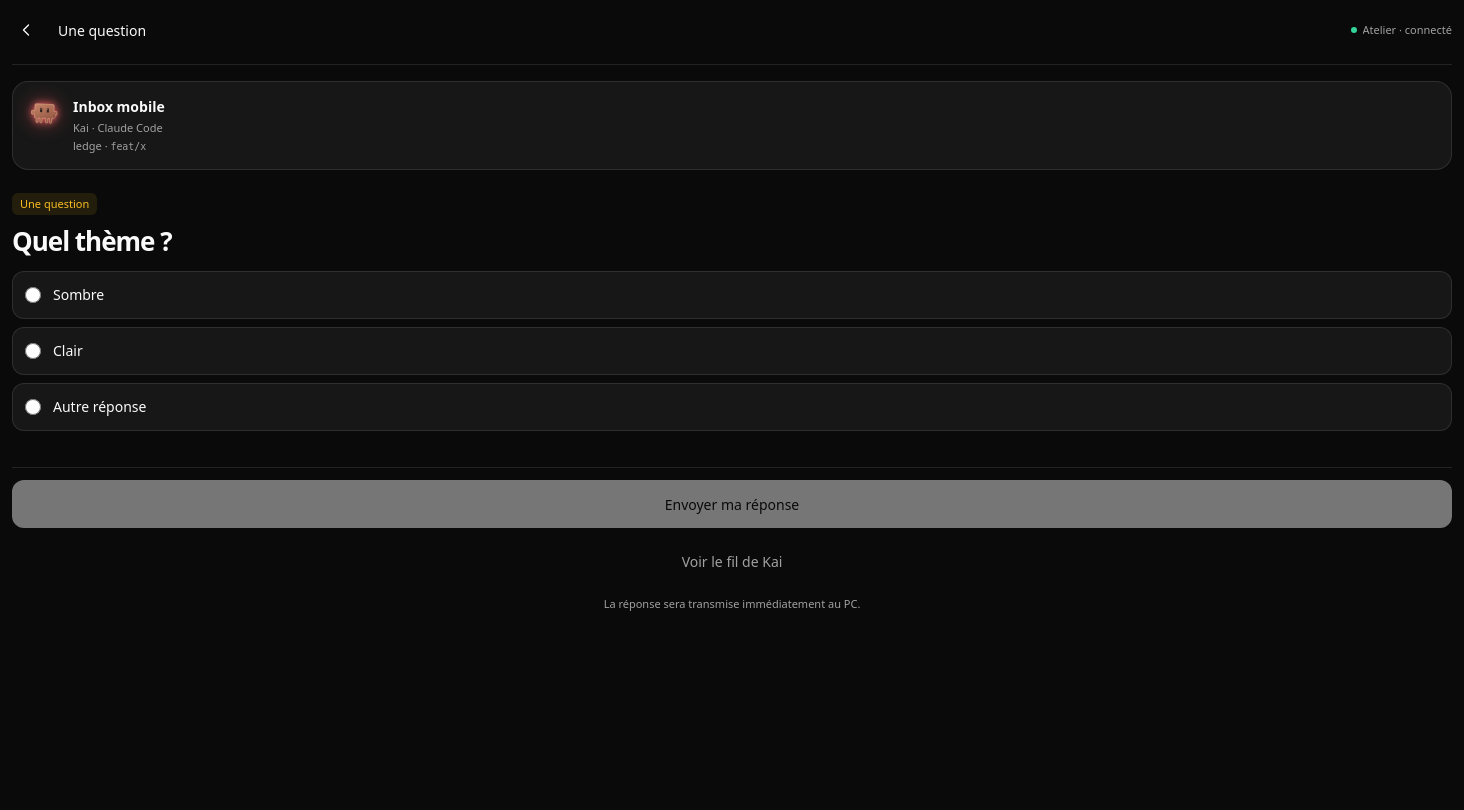
it: a question › says an answer was taken
Click the radio button labelled "Sombre" at [33, 295], box [25, 287, 41, 303]
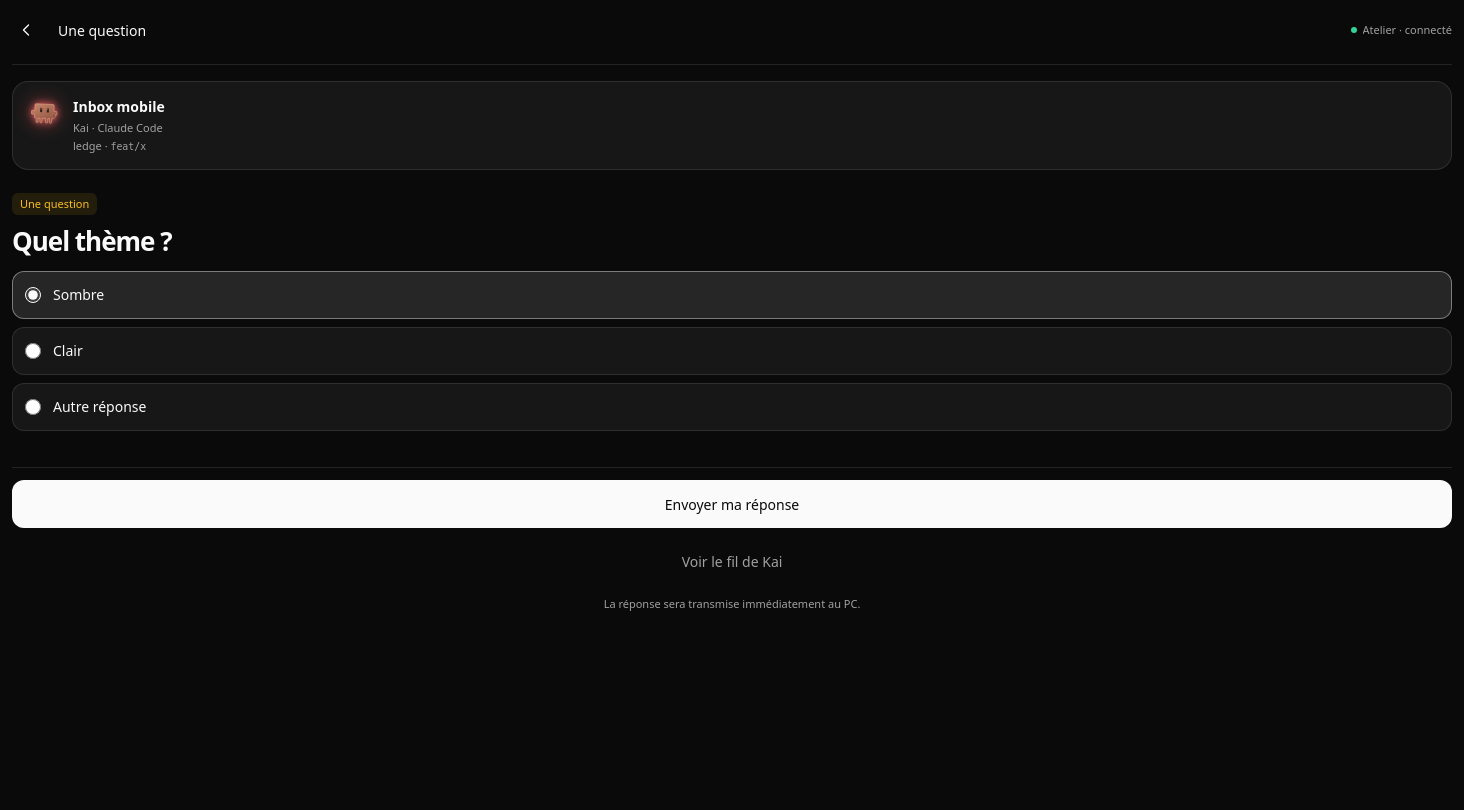
Click the button "Envoyer ma réponse" at [732, 504], box [12, 480, 1452, 528]
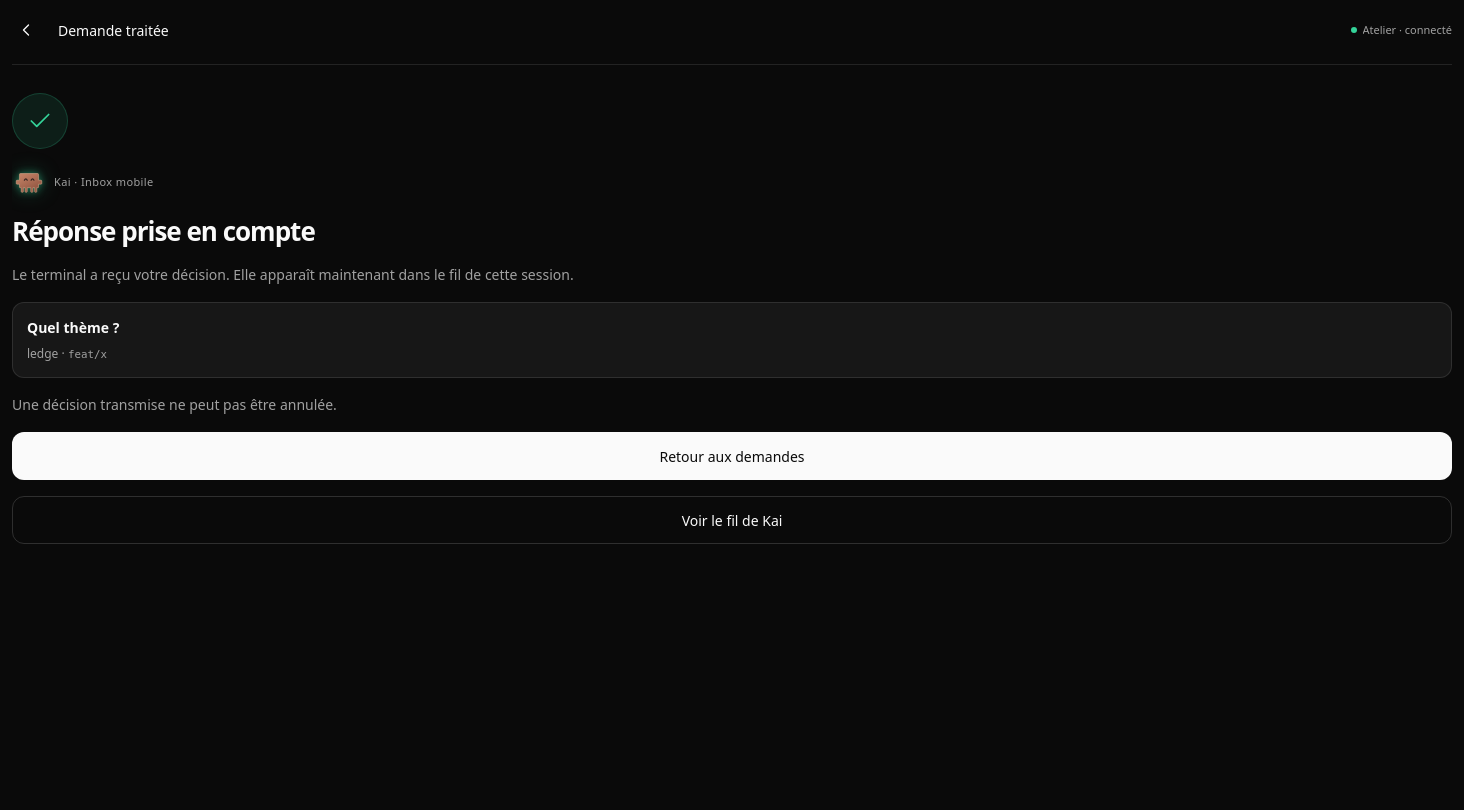
Now the heading "Réponse prise en compte" is shown, box [12, 215, 315, 248]
